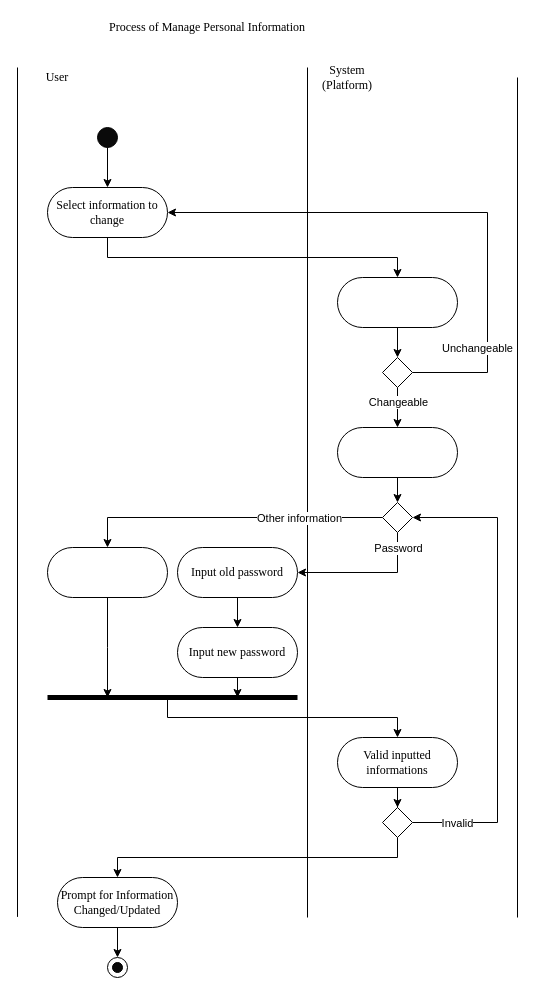
Image size: 536x995. Some labels were removed from this diagram. The shapes that lost their labels are listed below. From the top down, each one's box as (x1, y1, x2, y2) in pixels, then its label:
(336, 276, 458, 328): Check if information changeable
(336, 426, 458, 478): Check if changing password
(46, 546, 168, 598): Input new information
